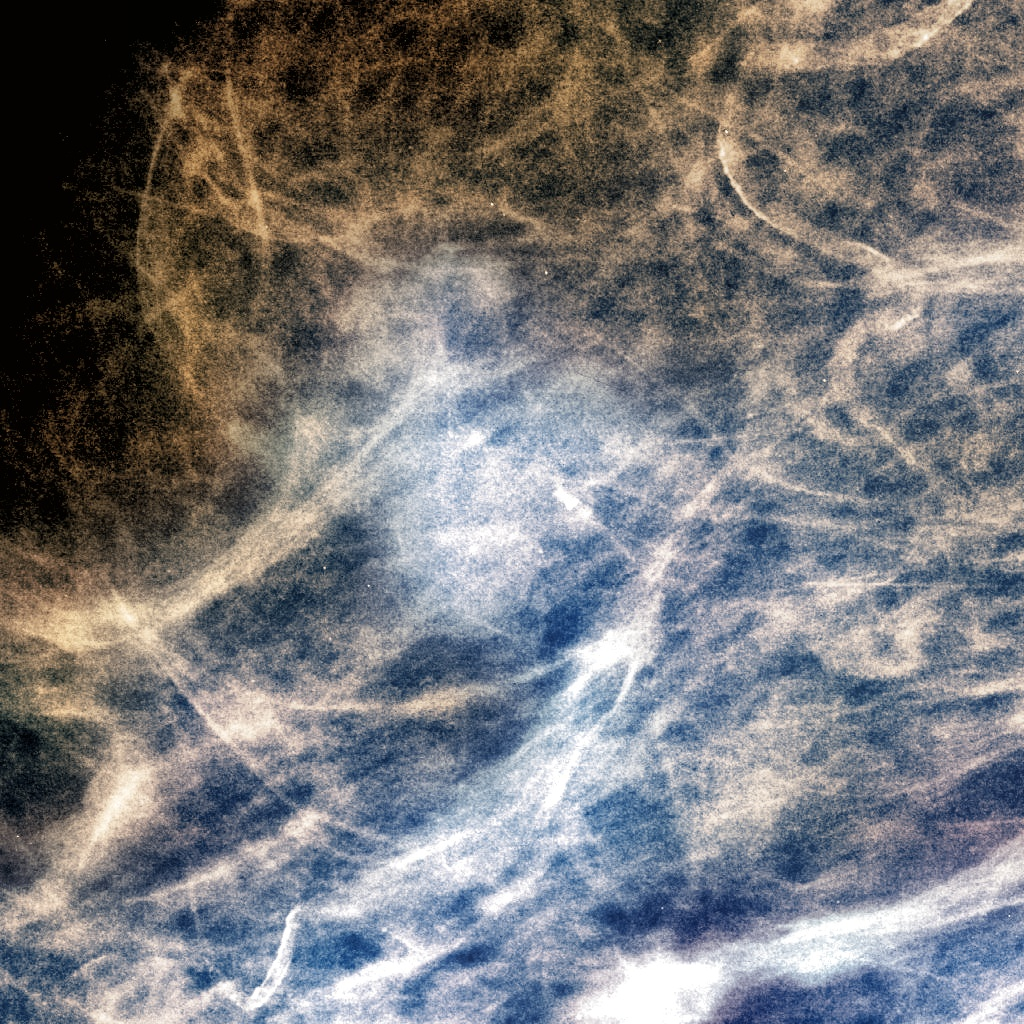tumor: (381, 387, 643, 637)
